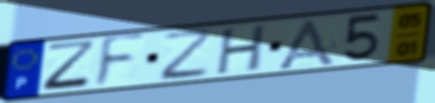5: (340, 11, 386, 64)
A: (272, 17, 339, 70)
F: (91, 31, 148, 92)
H: (213, 22, 270, 77)
Z: (40, 38, 100, 93), (160, 27, 215, 83)
